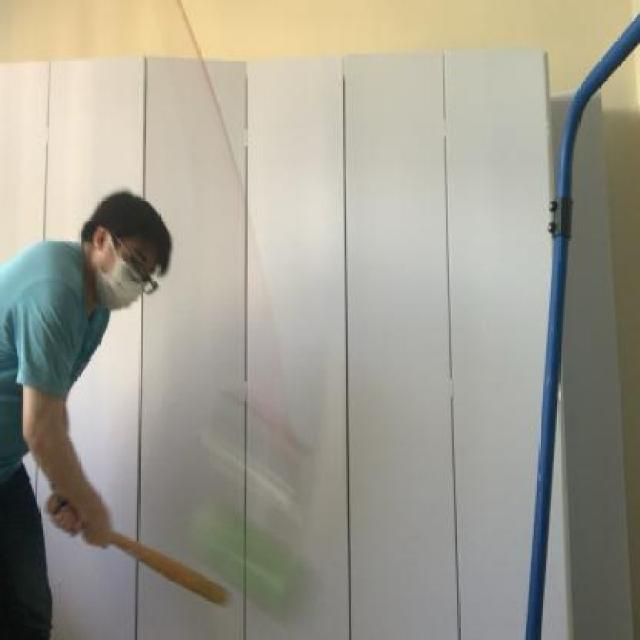baseball: (175, 479, 319, 627)
